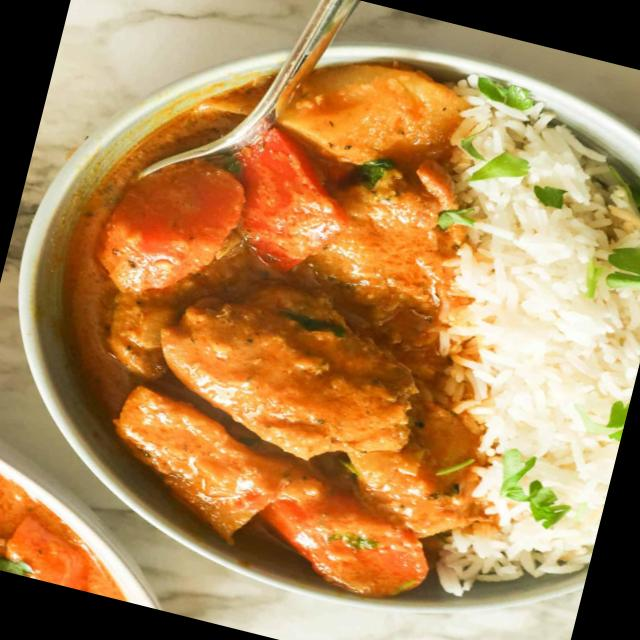chicken: (33, 24, 541, 592)
rice: (343, 62, 640, 614)
